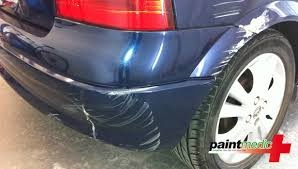Scratch: (201, 1, 274, 78), (70, 91, 162, 148), (45, 109, 64, 122)
